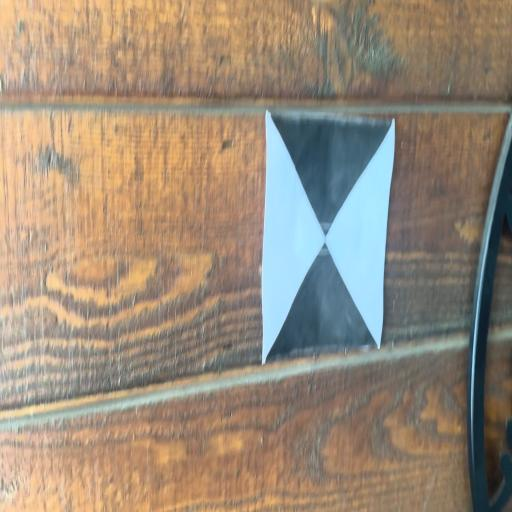target: (262, 110, 394, 362)
